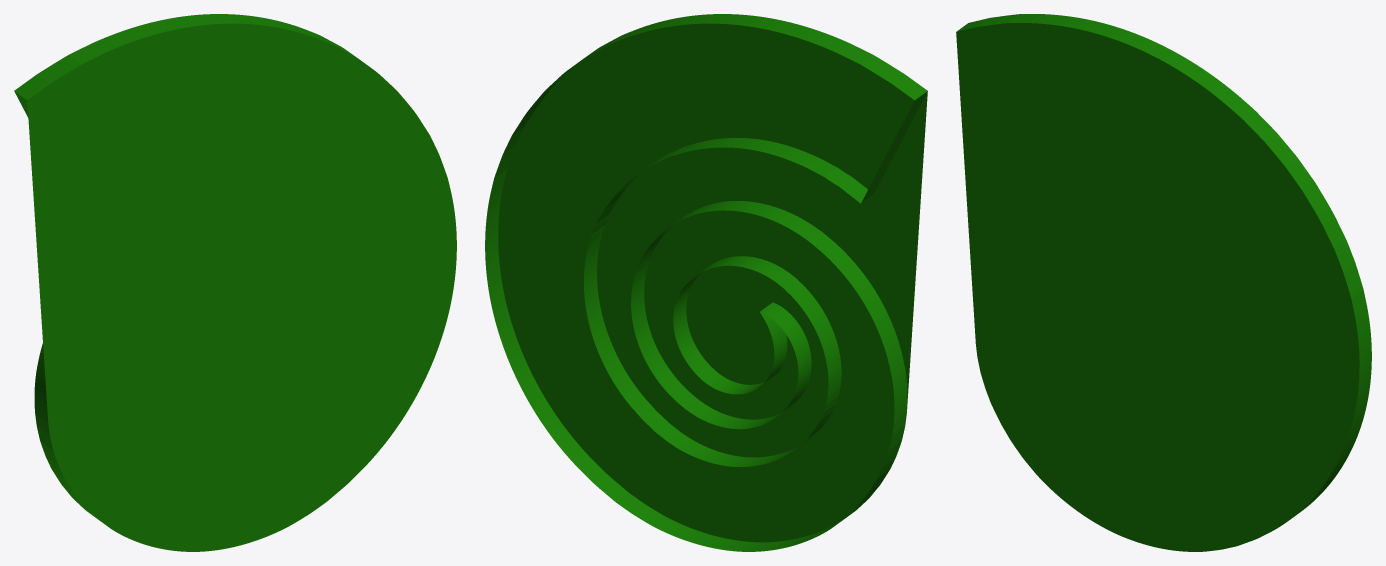
Rendered from symbol_nature.FBX.
The picture shows the model from 3 angles, left to right: view 1: azimuth 30°, elevation 25°; view 2: azimuth 150°, elevation 25°; view 3: azimuth 330°, elevation 25°; orthographic projection. The views are drawn at different scales.
Visible parts, largest first — view 1: Layer:Layer 1; view 2: Layer:Layer 1; view 3: Layer:Layer 1.
Boxes of the visible parts, left/top/right/bottom form: Layer:Layer 1: left=14, top=14, right=456, bottom=551; Layer:Layer 1: left=485, top=14, right=927, bottom=551; Layer:Layer 1: left=956, top=14, right=1371, bottom=551.
Size of the model in its own units: 4.72 by 5.59 by 0.2501.
